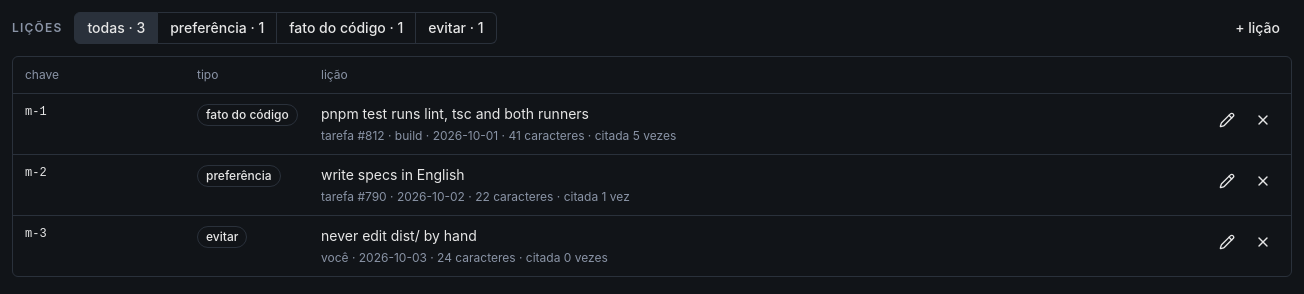
the filter counts each kind and shows only its lessons; ✕ removes a lesson at once and an empty kind says so (#797)
Click the radio button labelled "evitar · 1": (456, 28) [416,12,497,44]
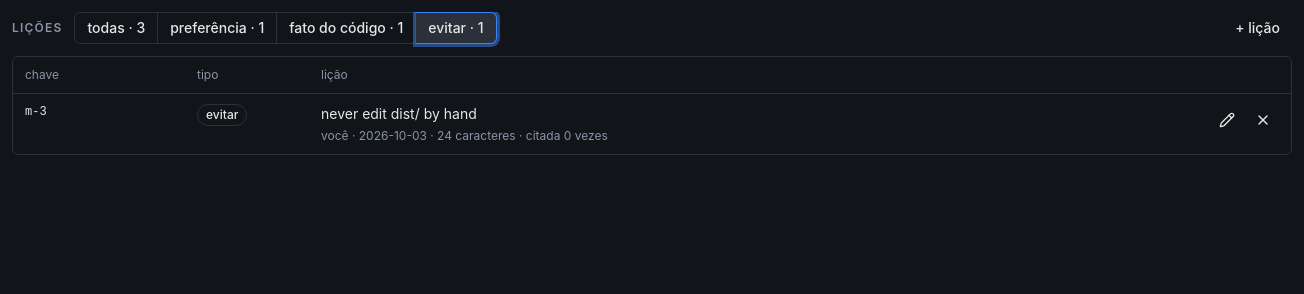
Check: the text "never edit dist/ by hand" is shown, box [321,105,477,122]
Check: the text "write specs in English" is gone
Click the button named "remover lição m-3": (1263, 120) [1247,104,1279,136]
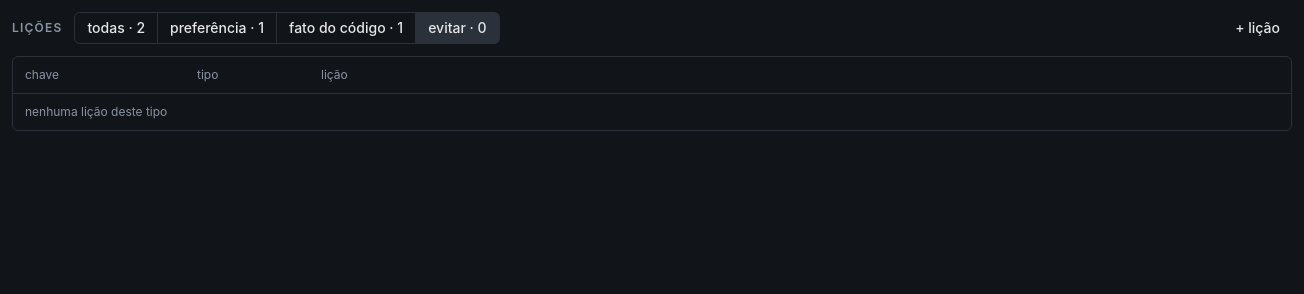
Check: the text "never edit dist/ by hand" is gone
Check: the text "nenhuma lição deste tipo" is shown, box [13,93,1291,130]
Check: the radio button labelled "evitar · 0" is shown, box [416,12,500,44]
